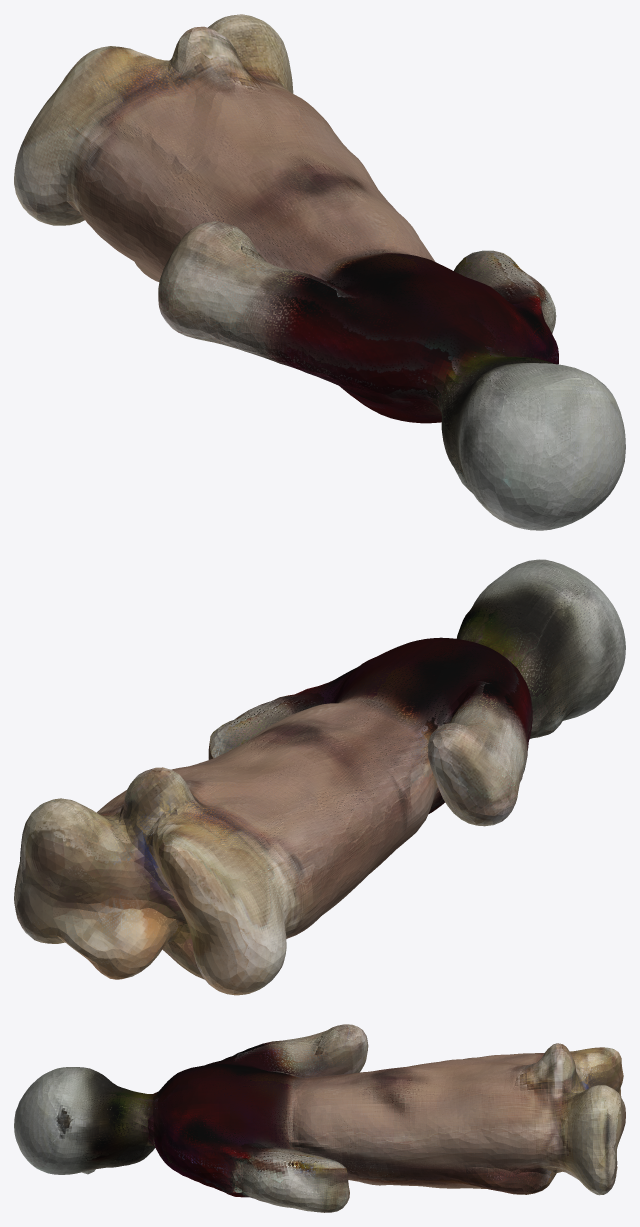
The model's file is grandmother.glb.
The picture shows the model from 3 angles, top to bottom: view 1: azimuth 30°, elevation 25°; view 2: azimuth 150°, elevation 25°; view 3: azimuth 270°, elevation 25°; orthographic projection. The views are drawn at different scales.
Visible parts, largest first — view 1: world; view 2: world; view 3: world.
Boxes of the visible parts, <box> form: world: <box>14,14,625,530</box>; world: <box>14,559,625,995</box>; world: <box>14,1024,625,1212</box>.
Size of the model in its own units: 0.4262 by 0.2664 by 1.
Materials: 1 (1 with a texture image).
